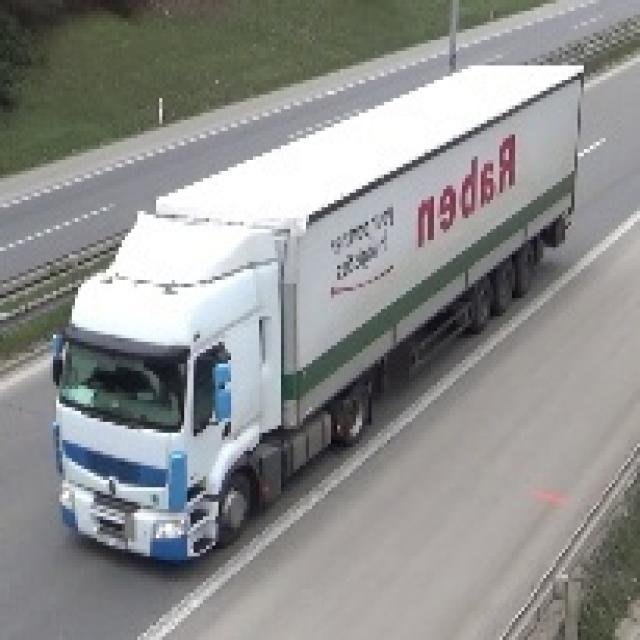TRUCK: (38, 56, 583, 570)
